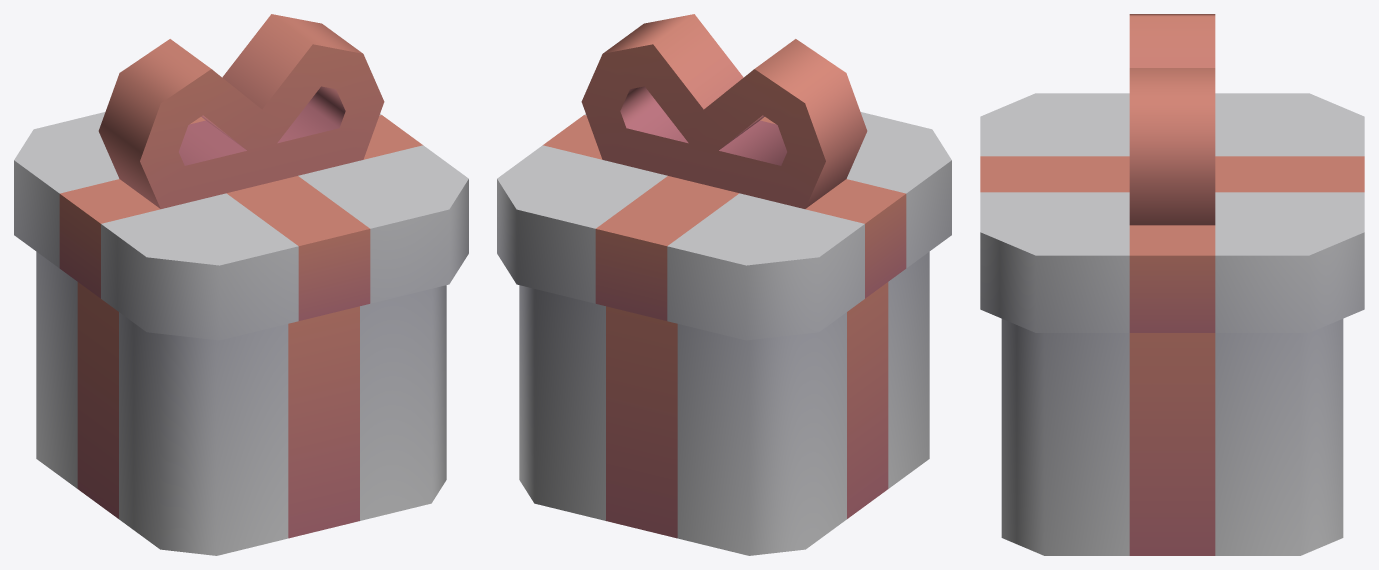
Rendered from present_a.glb.
The picture shows the model from 3 angles, left to right: view 1: azimuth 30°, elevation 25°; view 2: azimuth 150°, elevation 25°; view 3: azimuth 270°, elevation 25°; orthographic projection. The views are drawn at different scales.
Visible parts, largest first — view 1: present_a; view 2: present_a; view 3: present_a.
Boxes of the visible parts, box(x1,y1,x2,y2) form: present_a: box(14, 14, 468, 555); present_a: box(497, 14, 951, 555); present_a: box(980, 14, 1364, 555).
Size of the model in its own units: 7.1 by 9 by 7.1.
